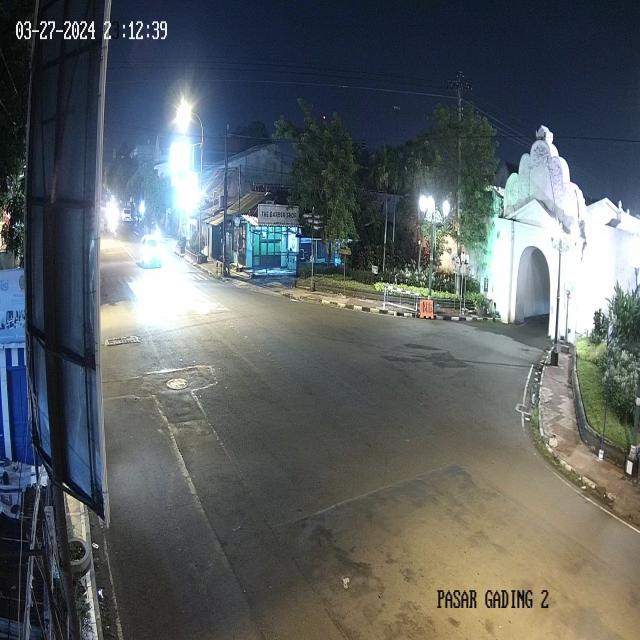car: (139, 233, 163, 269), (120, 208, 133, 223)
